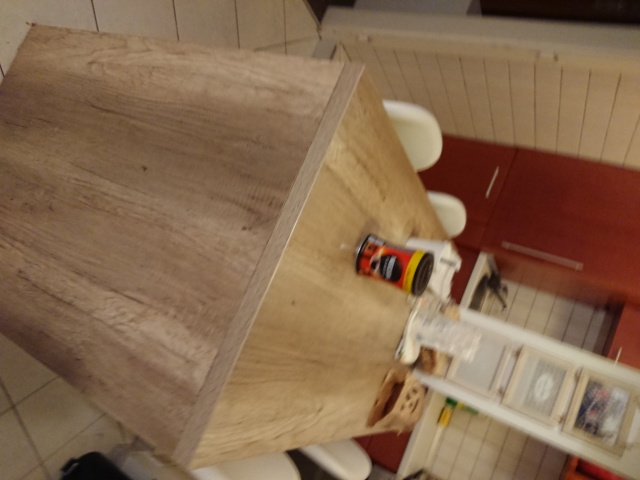Nescafe Classic 225g: (352, 231, 437, 300)
